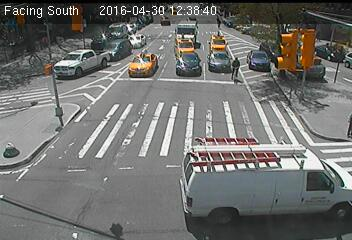neg: (180, 76, 214, 120), (110, 94, 141, 135), (97, 26, 110, 44), (131, 3, 144, 21), (87, 56, 99, 72), (154, 10, 162, 20), (183, 19, 191, 29), (103, 9, 109, 17)
